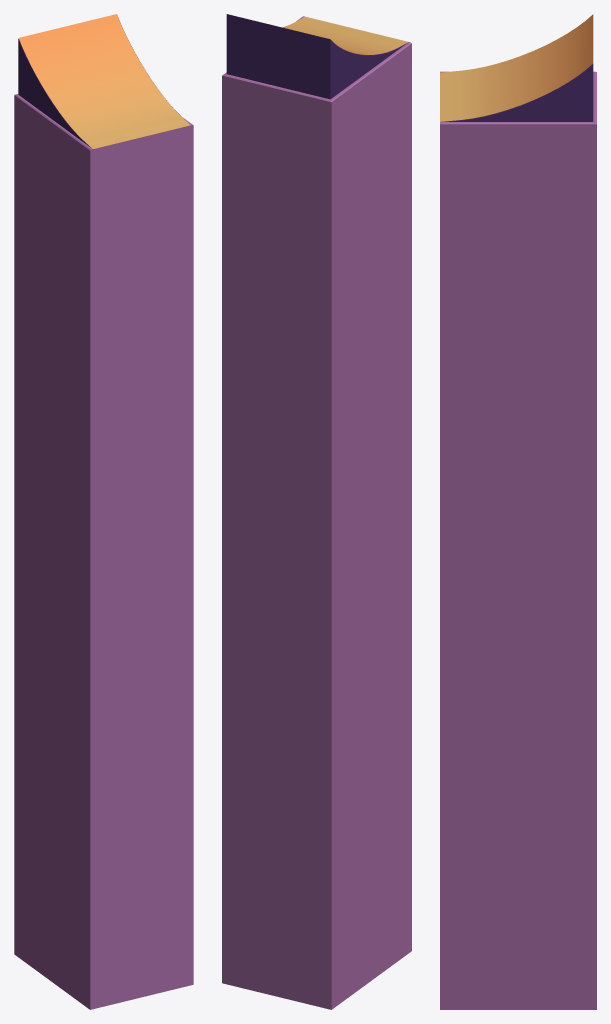
Rendered from Ramp_1.fbx.
3 renders of one model, left to right at view 1: azimuth 30°, elevation 25°; view 2: azimuth 150°, elevation 25°; view 3: azimuth 270°, elevation 25°, orthographic. The views are drawn at different scales.
Parts seen in each view (by area): view 1: Cube; view 2: Cube; view 3: Cube.
Boxes of the visible parts, <box> form: Cube: <box>14,14,193,1009</box>; Cube: <box>222,14,411,1009</box>; Cube: <box>440,14,596,1009</box>.
Size of the model in its own units: 1188 by 10051 by 1510.
Materials: 3 (1 with a texture image).
